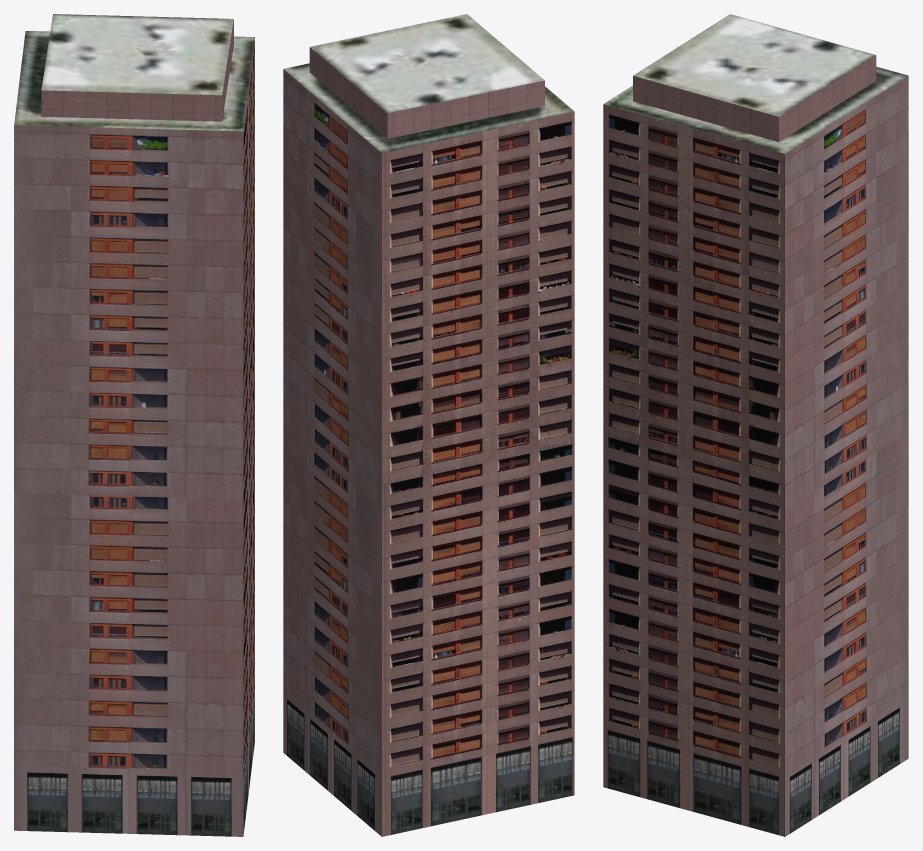
Rendered from warehouse_model.dae.
The picture shows the model from 3 angles, left to right: view 1: azimuth 30°, elevation 25°; view 2: azimuth 150°, elevation 25°; view 3: azimuth 270°, elevation 25°; orthographic projection. The views are drawn at different scales.
Visible parts, largest first — view 1: Model; view 2: Model; view 3: Model.
Boxes of the visible parts, <box> form: Model: <box>14,14,254,836</box>; Model: <box>283,14,574,836</box>; Model: <box>603,14,908,836</box>.
Size of the model in its own units: 32.25 by 32.49 by 83.3.
Materials: 4 (4 with a texture image).
